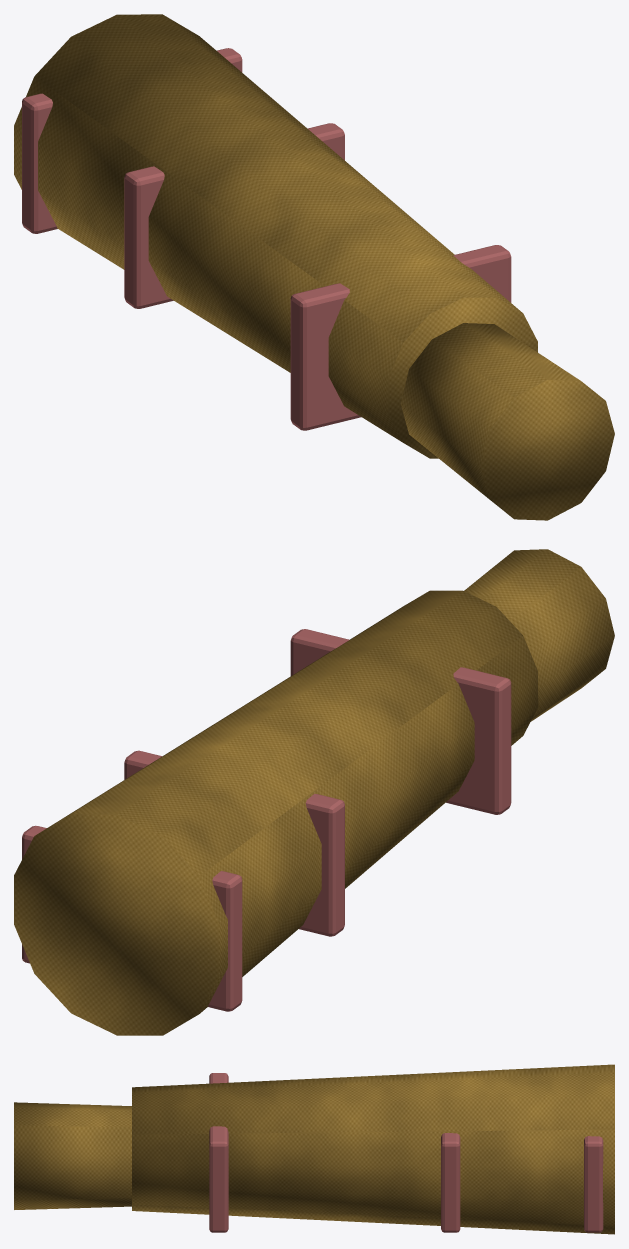
File: prop_corpse_bag.glb
3 views of the same model, one above another, from view 1: azimuth 30°, elevation 25°; view 2: azimuth 150°, elevation 25°; view 3: azimuth 270°, elevation 25° (orthographic). The views are drawn at different scales.
Parts seen in each view (by area): view 1: TorsoLump, HeadLump, BagStrap_-0.35, BagStrap_0.25, BagStrap_0.62; view 2: TorsoLump, HeadLump, BagStrap_-0.35, BagStrap_0.25, BagStrap_0.62; view 3: TorsoLump, HeadLump, BagStrap_-0.35, BagStrap_0.25, BagStrap_0.62.
Boxes of the visible parts, x1,y1,x2,y2 form: TorsoLump: (14,14,537,458); HeadLump: (400,323,614,520); BagStrap_-0.35: (290,245,511,430); BagStrap_0.25: (124,123,344,308); BagStrap_0.62: (22,48,242,233); TorsoLump: (14,590,538,1035); HeadLump: (464,549,614,721); BagStrap_-0.35: (290,629,511,814); BagStrap_0.25: (124,750,344,936); BagStrap_0.62: (22,825,242,1011); TorsoLump: (132,1064,614,1234); HeadLump: (14,1102,131,1209); BagStrap_-0.35: (209,1073,228,1232); BagStrap_0.25: (441,1133,460,1232); BagStrap_0.62: (584,1136,603,1232).
Bounding box in the file's own units: 0.44 × 0.44 × 1.56.
2 materials, 1 textured.
